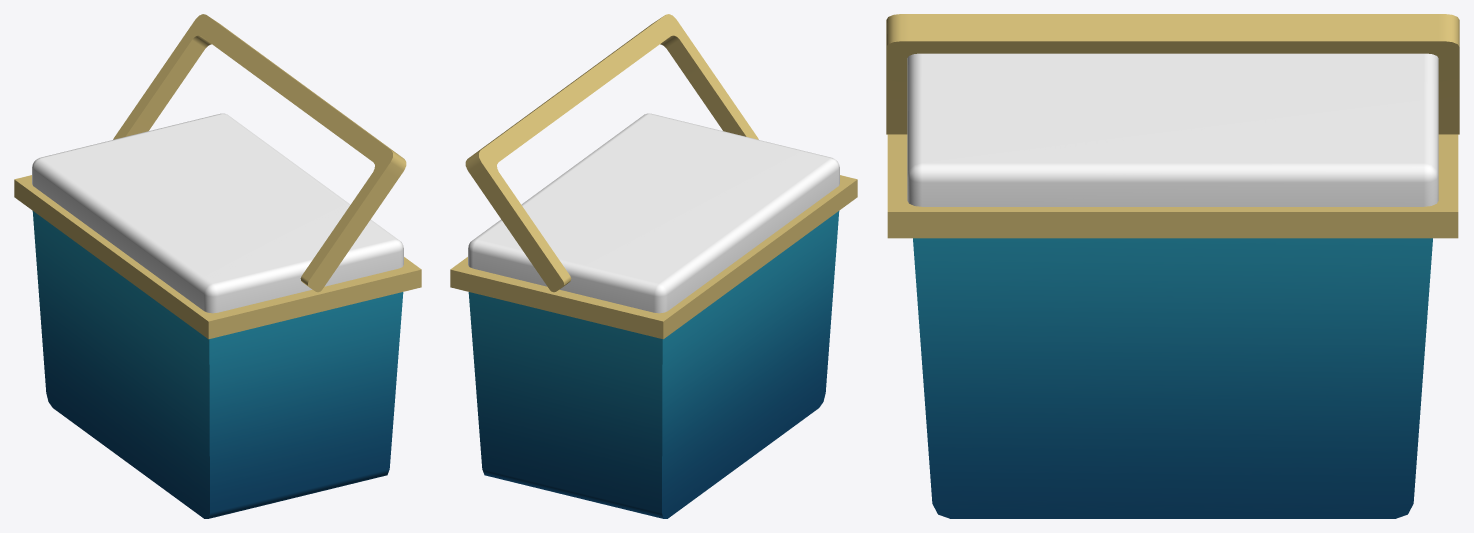
File: ENV_Cooler.fbx
3 views of the same model, side by side, from view 1: azimuth 30°, elevation 25°; view 2: azimuth 150°, elevation 25°; view 3: azimuth 270°, elevation 25° (orthographic). The views are drawn at different scales.
Parts seen in each view (by area): view 1: Cooler; view 2: Cooler; view 3: Cooler.
Boxes of the visible parts, left/top/right/bottom form: Cooler: left=14, top=14, right=421, bottom=518; Cooler: left=450, top=14, right=857, bottom=518; Cooler: left=886, top=14, right=1459, bottom=518.
Bounding box in the file's own units: 45.49 × 69.22 × 72.12.
